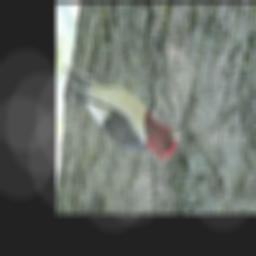Woodpecker: (58, 53, 190, 167)
